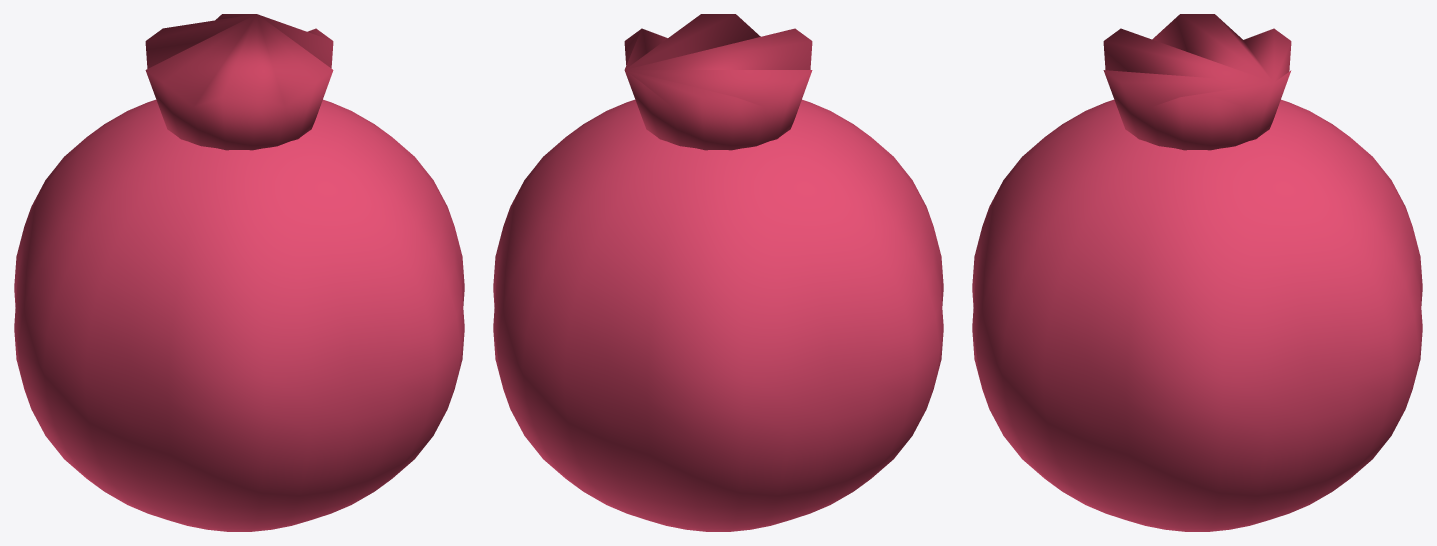
The model's file is Pomegranate_Whole.fbx.
3 views of the same model, side by side, from view 1: azimuth 30°, elevation 25°; view 2: azimuth 150°, elevation 25°; view 3: azimuth 270°, elevation 25° (orthographic).
Parts seen in each view (by area): view 1: Pomegranate_Whole; view 2: Pomegranate_Whole; view 3: Pomegranate_Whole.
Boxes of the visible parts, x1,y1,x2,y2 form: Pomegranate_Whole: (14,14,464,531); Pomegranate_Whole: (493,14,943,531); Pomegranate_Whole: (972,14,1422,531).
Bounding box in the file's own units: 1.15 × 1.2 × 1.08.
